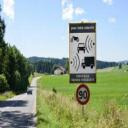speed_limit_90: (76, 84, 90, 105)
